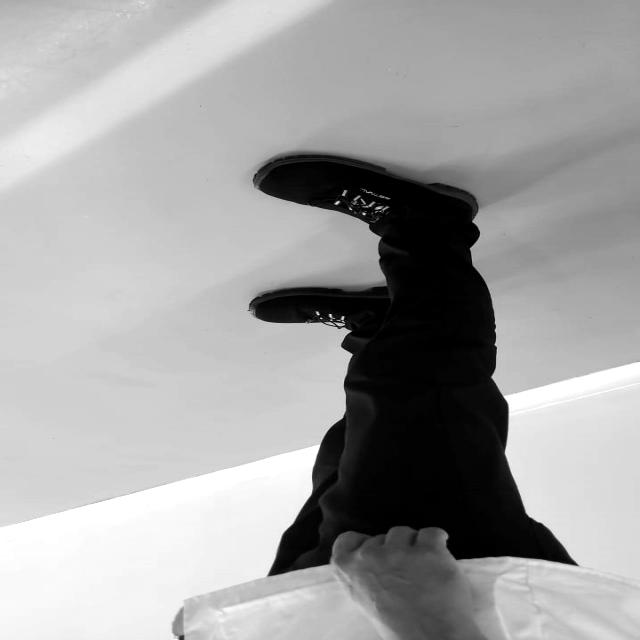Boots: (247, 148, 487, 242), (242, 282, 398, 327)
